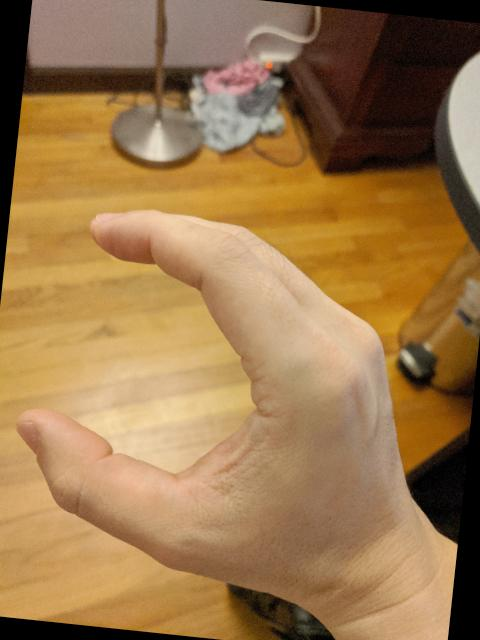C: (0, 192, 446, 628)
